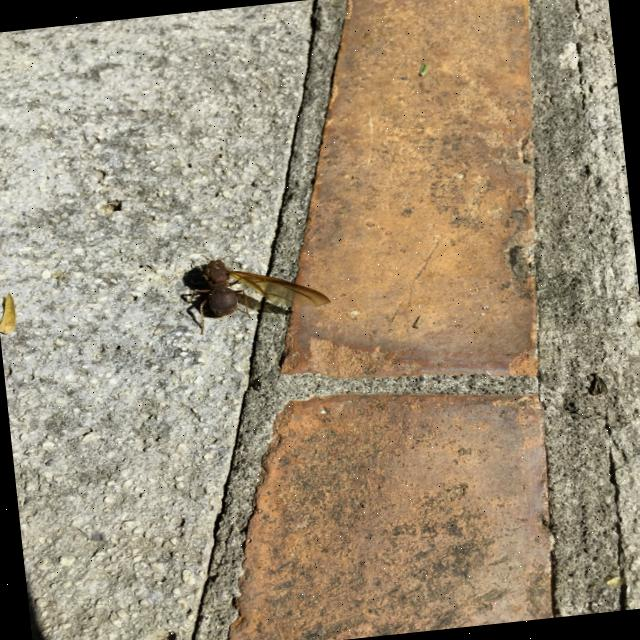Alive-Female-Alate: (178, 240, 332, 336)
